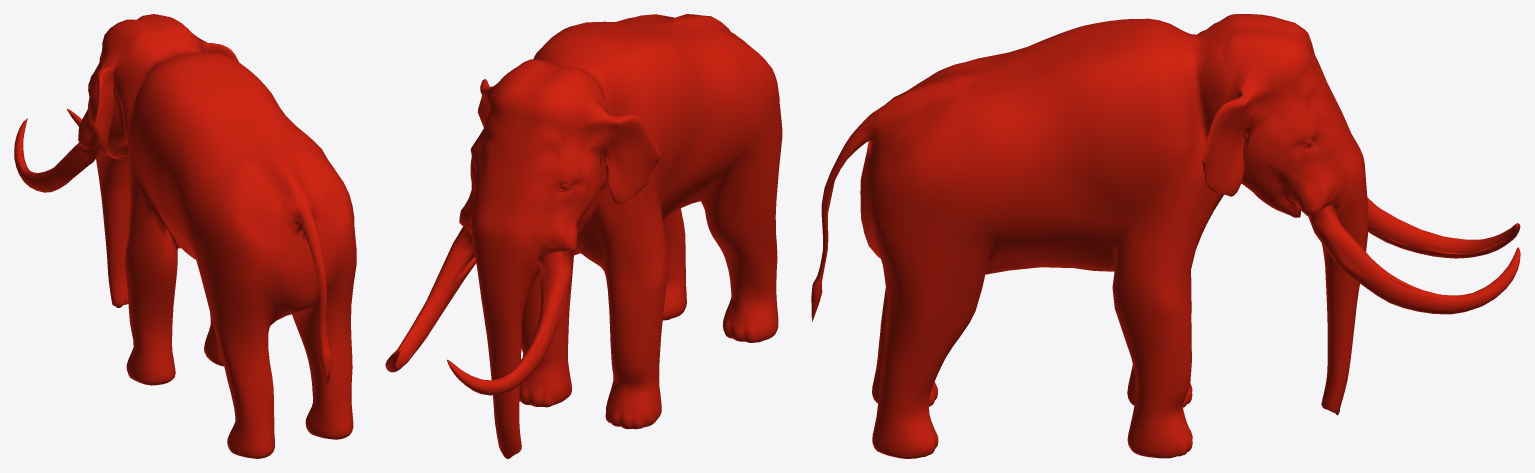
The model's file is mammoth.obj.
3 renders of one model, left to right at view 1: azimuth 30°, elevation 25°; view 2: azimuth 150°, elevation 25°; view 3: azimuth 270°, elevation 25°, orthographic. The views are drawn at different scales.
Visible parts, largest first — view 1: MAMMOTH; view 2: MAMMOTH; view 3: MAMMOTH.
Part boxes in pixels (box(x1,y1,x2,y2)): MAMMOTH: box(14, 14, 356, 458); MAMMOTH: box(385, 14, 782, 458); MAMMOTH: box(811, 14, 1520, 458).
Size of the model in its own units: 6.58 by 12.68 by 20.34.
